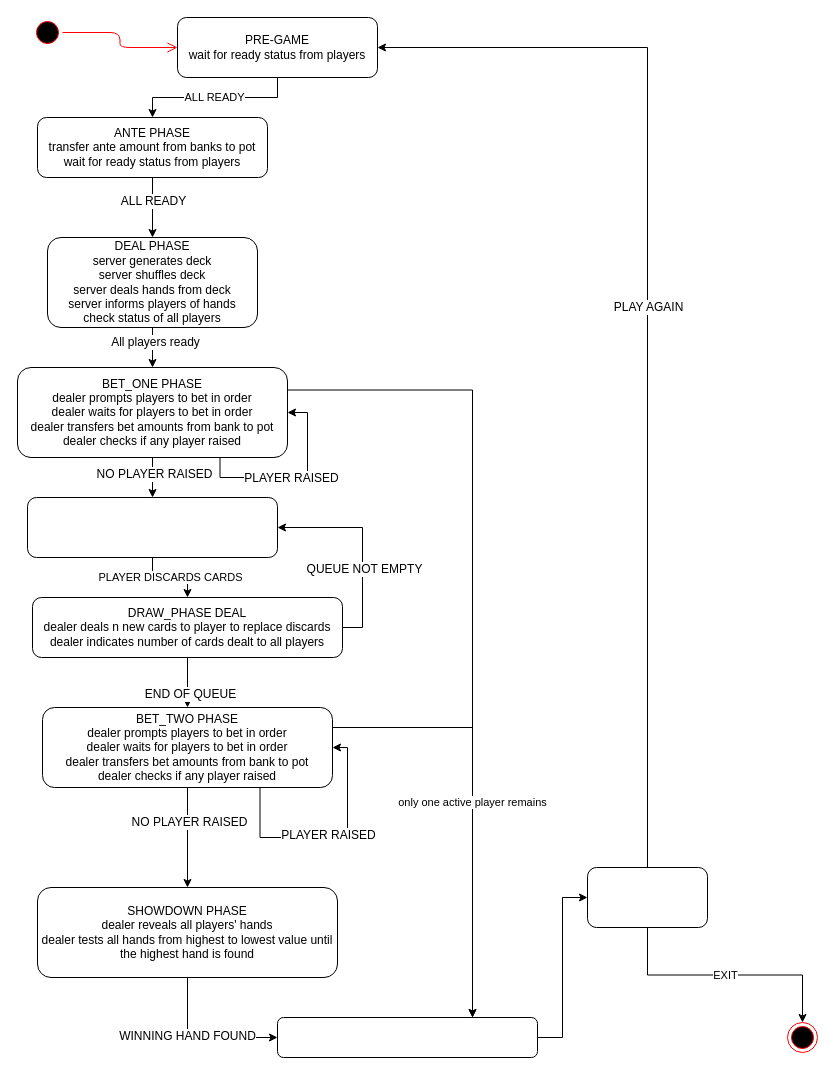
Some shapes in this 835 by 1075 pixel diagram are drawn without their labels. The box of each missing label's shape, as (x1, y1, x2, y2) in pixels:
DRAW_PHASE WAIT next player indicates cards to be discarded: (26, 496, 278, 558)
POST-GAME Prompt players to play again: (586, 866, 708, 928)
REWARD dealer distributes pot to winning player's bank: (276, 1016, 538, 1058)
